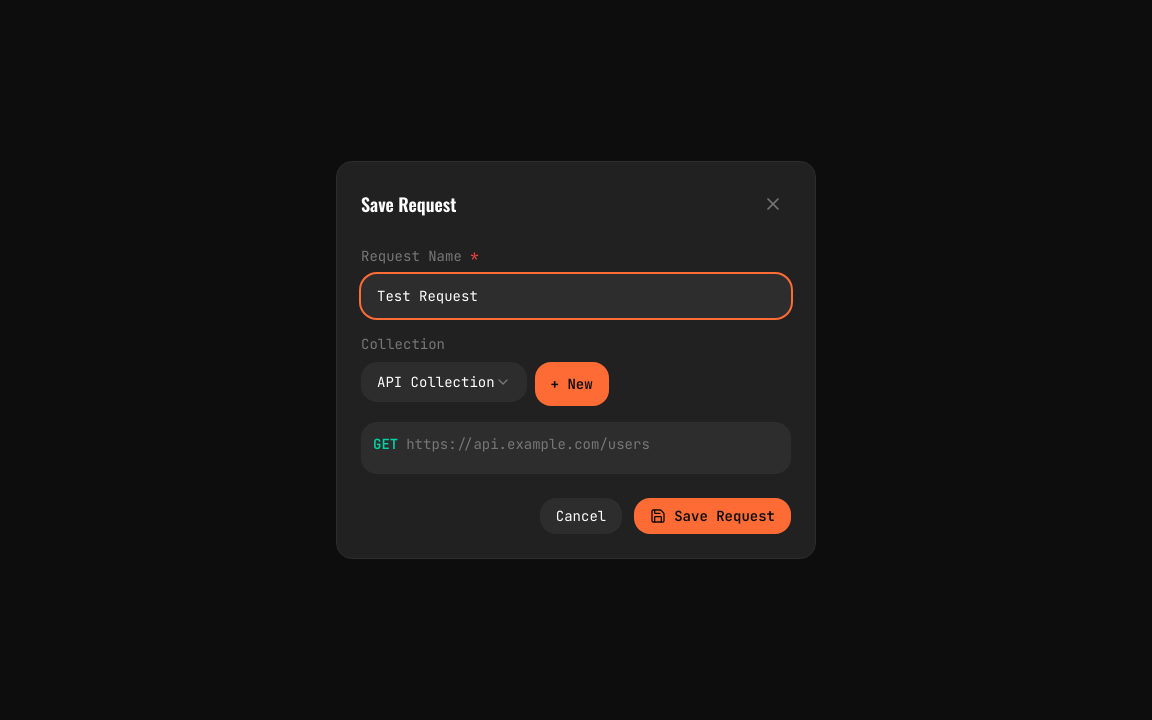
Test: SaveRequestModal › shows new collection form when clicking + New
Click the button "+ New": [572, 384] box [535,362,609,406]
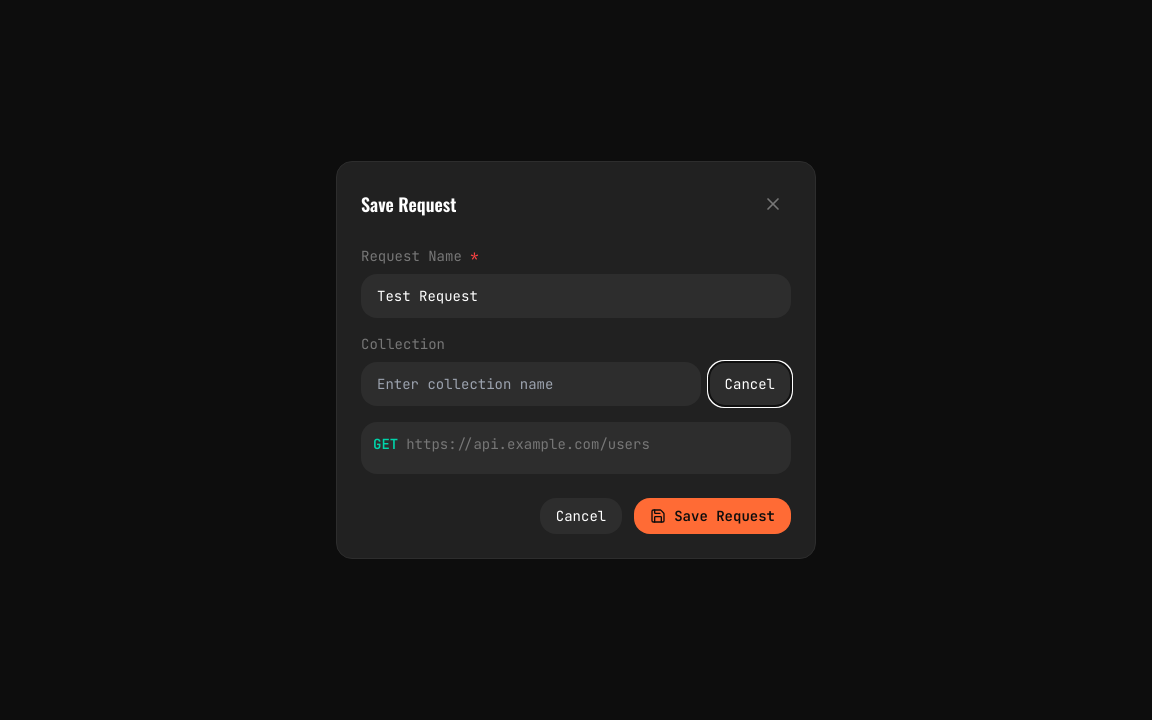
Now the field with placeholder "Enter collection name" is shown, box [361,362,701,406]
